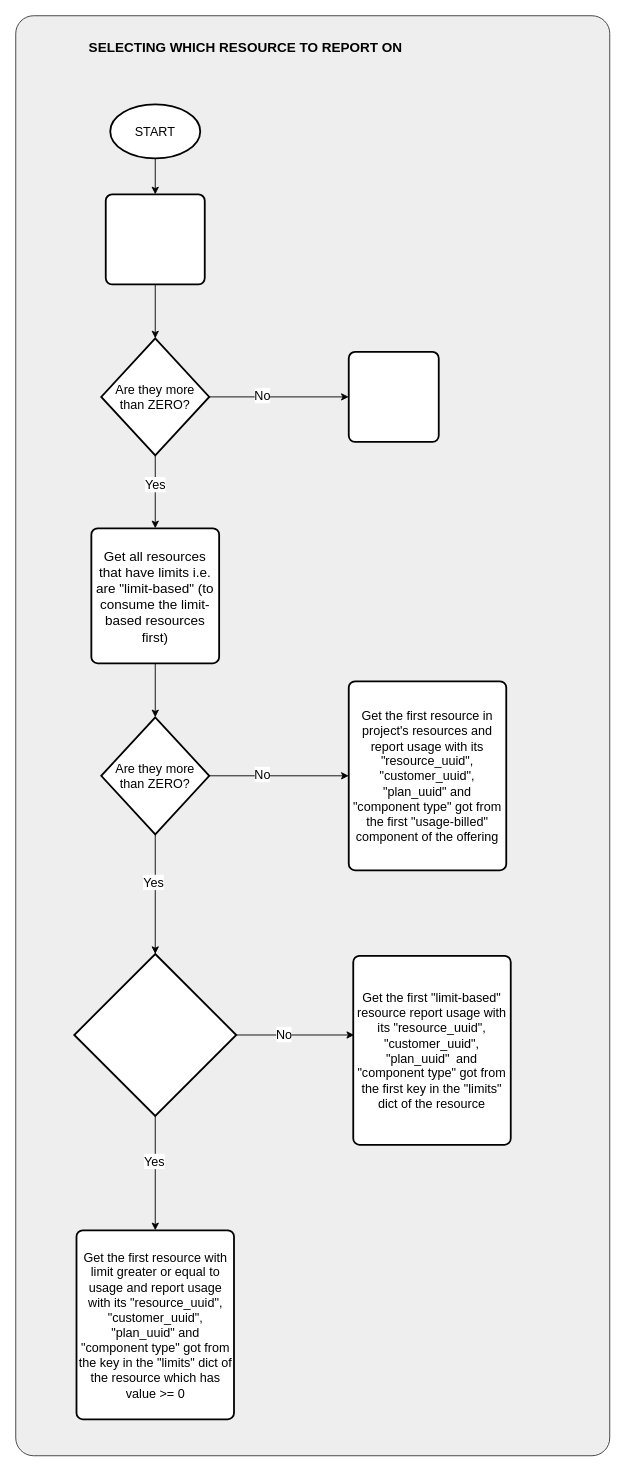
The diagram is 626 pixels wide and 1472 high, and some of its shapes have lost their labels. The centre of each missing label's shape, as x and y in pixels:
"Get all resources attached to the given project ID" goes at (x=154, y=239).
"Is any of them with a limit greater or equal to the usage amount to be reported?" goes at (x=155, y=1034).
"Raise Resource-not-found error" goes at (x=393, y=396).
